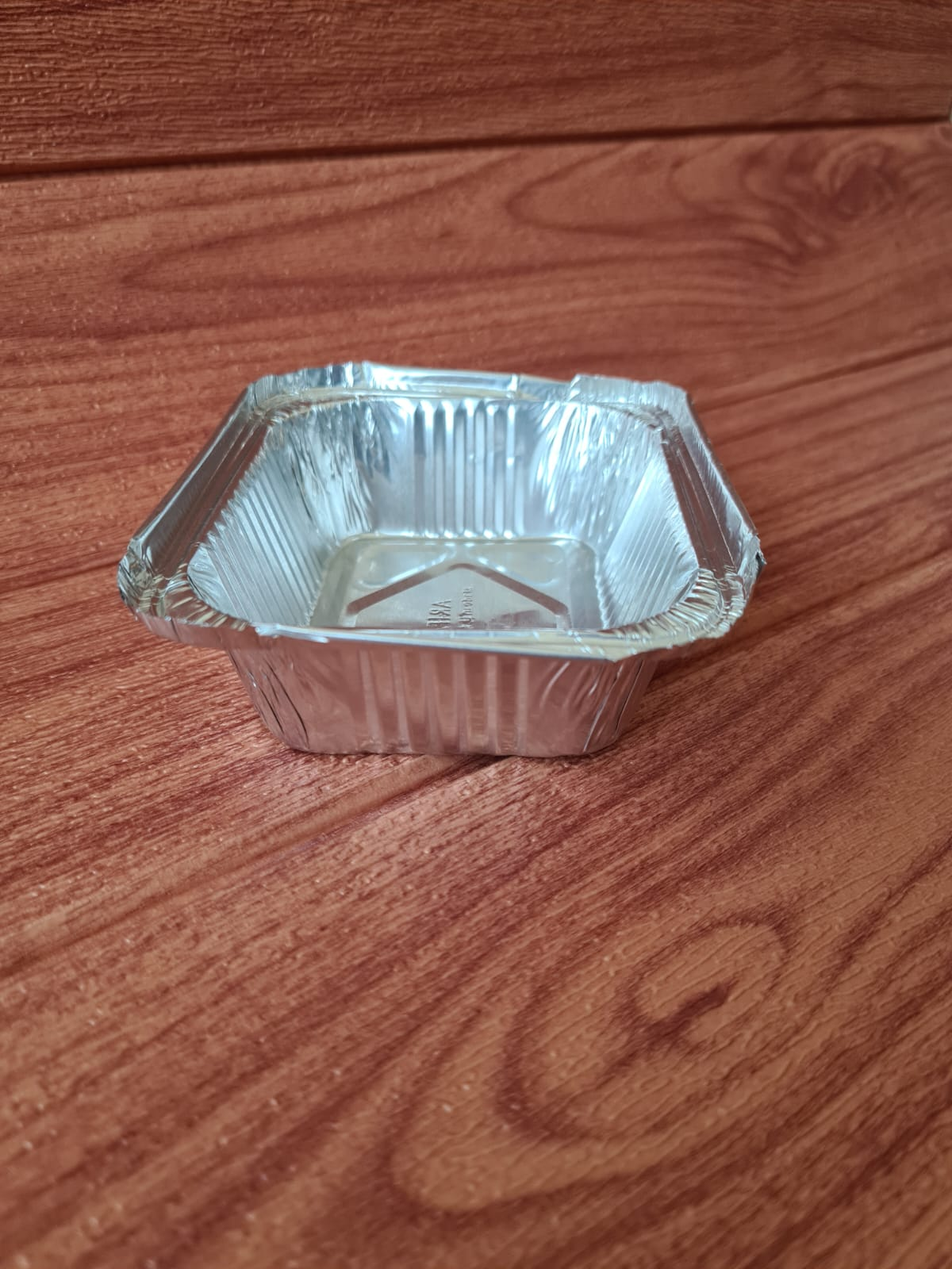Metal: (122, 362, 784, 761)
